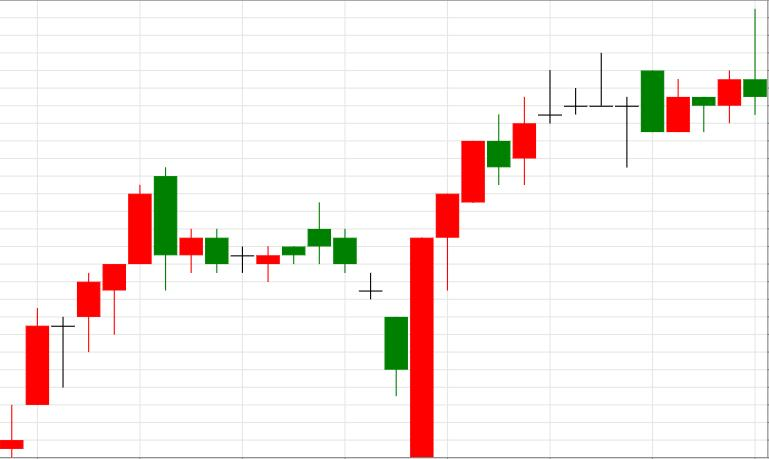bullish_engulfing_rise: (281, 200, 433, 456)
three_white_soldiers_rise: (281, 141, 485, 456)
